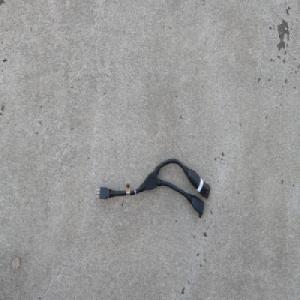Wire: (94, 157, 211, 219)
